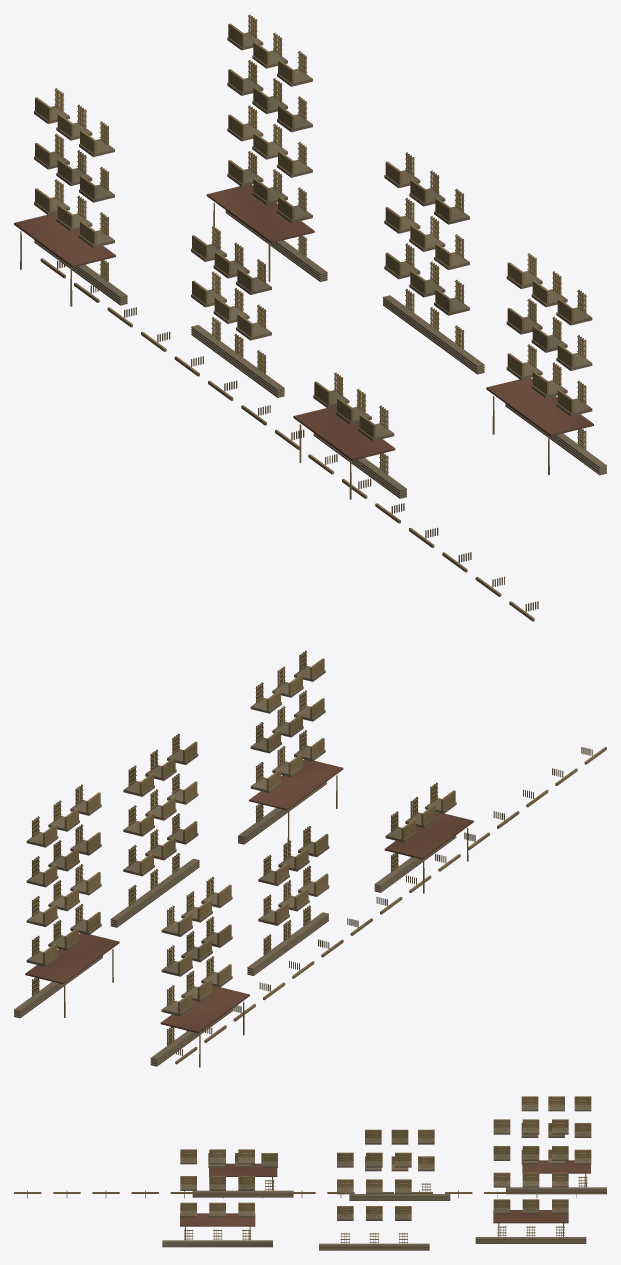
Rendered from north-detail.glb.
3 renders of one model, top to bottom at view 1: azimuth 30°, elevation 25°; view 2: azimuth 150°, elevation 25°; view 3: azimuth 270°, elevation 25°, orthographic. The views are drawn at different scales.
Visible parts, largest first — view 1: 54e-bronze, 54e-sand, 54e-cloth; view 2: 54e-bronze, 54e-sand, 54e-cloth; view 3: 54e-sand, 54e-bronze, 54e-cloth.
Boxes of the visible parts, x1,y1,x2,y2 form: 54e-bronze: (20, 14, 586, 621); 54e-sand: (34, 32, 606, 611); 54e-cloth: (14, 184, 593, 460); 54e-bronze: (31, 650, 606, 1067); 54e-sand: (14, 666, 592, 1066); 54e-cloth: (25, 759, 473, 1033); 54e-sand: (27, 1104, 606, 1250); 54e-bronze: (14, 1096, 591, 1243); 54e-cloth: (180, 1160, 590, 1226).
Size of the model in its own units: 16.5 by 14.32 by 60.55.
